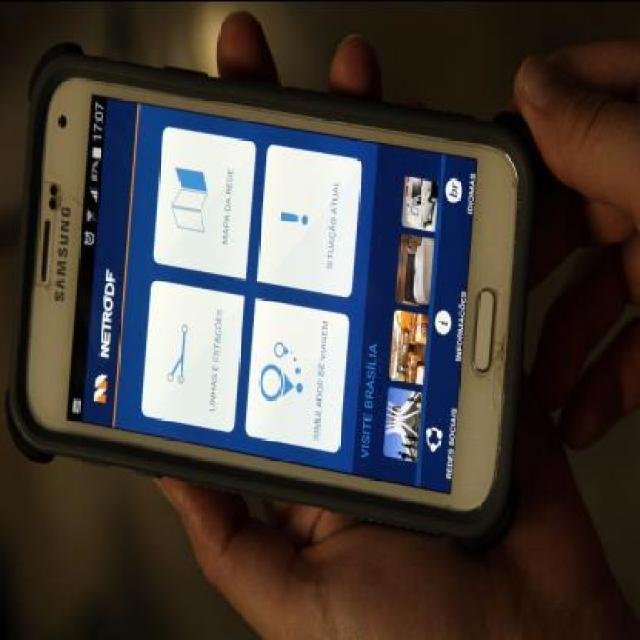phone: (14, 45, 546, 541)
